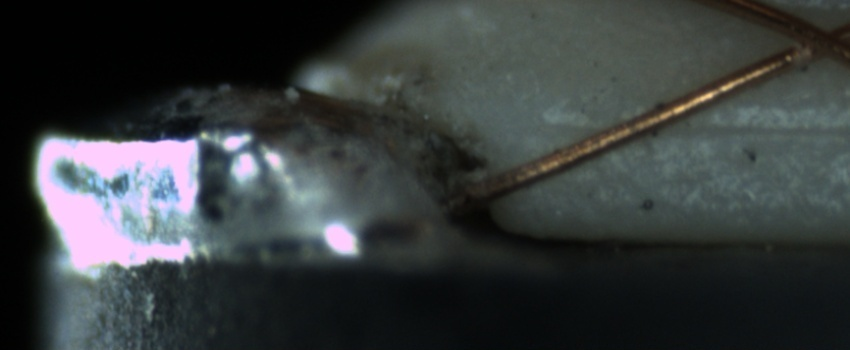CL: (766, 5, 849, 70)
DL: (542, 95, 850, 160)
